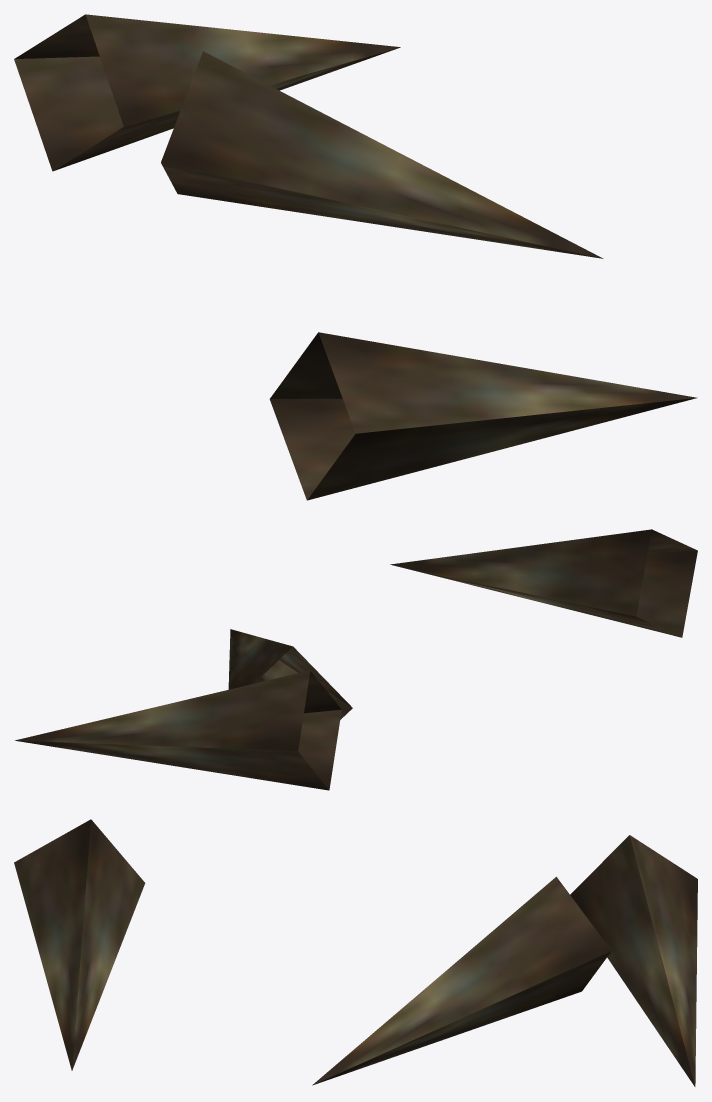
3 views of the same model, one above another, from view 1: azimuth 30°, elevation 25°; view 2: azimuth 150°, elevation 25°; view 3: azimuth 270°, elevation 25° (orthographic). The views are drawn at different scales.
Parts seen in each view (by area): view 1: wj050; view 2: wj050; view 3: wj050.
Boxes of the visible parts, <box> form: wj050: <box>14,14,697,500</box>; wj050: <box>15,529,697,790</box>; wj050: <box>14,819,697,1086</box>.
Bounding box in the file's own units: 237 × 84.83 × 363.
